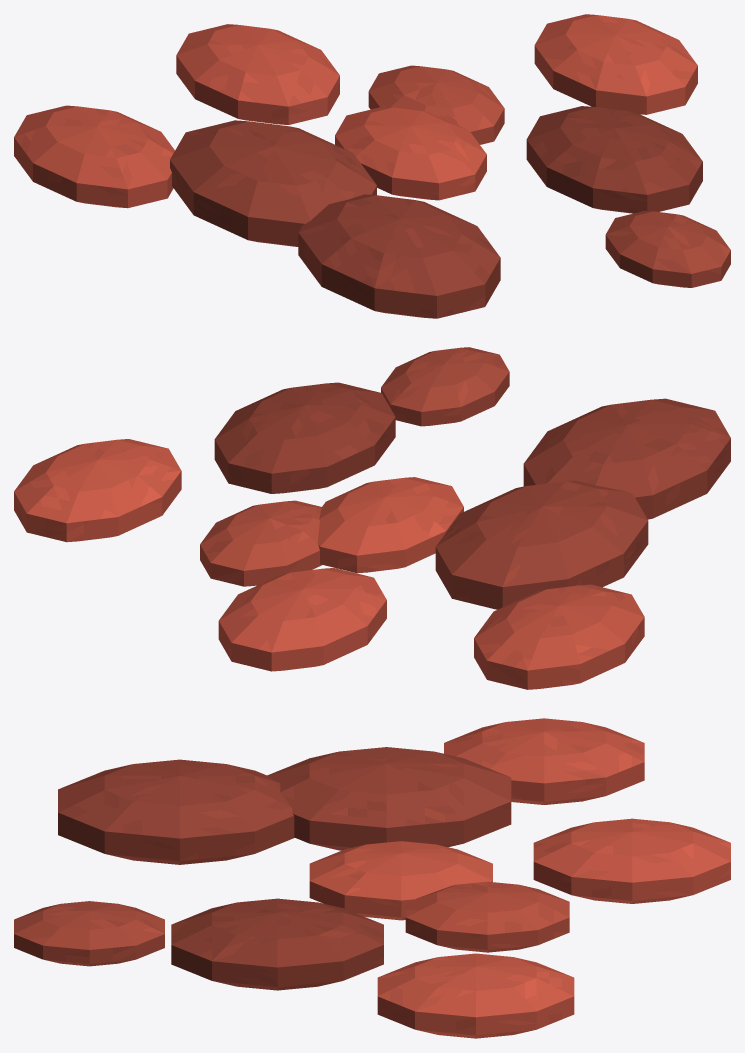
Rendered from seed_red_winter_wheat.glb.
3 views of the same model, one above another, from view 1: azimuth 30°, elevation 25°; view 2: azimuth 150°, elevation 25°; view 3: azimuth 270°, elevation 25° (orthographic). The views are drawn at different scales.
Parts seen in each view (by area): view 1: block_grain 5, block_grain 2, block_grain 3, block_grain 7, block_grain 4, block_grain 6, block_grain 0, block_grain 8, block_grain 1; view 2: block_grain 2, block_grain 5, block_grain 3, block_grain 7, block_grain 4, block_grain 6, block_grain 0, block_grain 1, block_grain 8; view 3: block_grain 5, block_grain 2, block_grain 3, block_grain 4, block_grain 6, block_grain 7, block_grain 0, block_grain 1, block_grain 8.
Part boxes in pixels (x1,y1,x2,y2): block_grain 5: [298, 194, 500, 318]; block_grain 2: [170, 120, 376, 246]; block_grain 3: [526, 106, 702, 213]; block_grain 7: [14, 105, 174, 208]; block_grain 4: [176, 24, 339, 124]; block_grain 6: [534, 14, 697, 114]; block_grain 0: [335, 106, 486, 200]; block_grain 8: [605, 210, 730, 287]; block_grain 1: [368, 65, 504, 144]; block_grain 2: [435, 480, 648, 609]; block_grain 5: [523, 398, 730, 519]; block_grain 3: [214, 382, 395, 493]; block_grain 7: [474, 584, 644, 689]; block_grain 4: [218, 568, 386, 671]; block_grain 6: [14, 439, 181, 542]; block_grain 0: [317, 477, 463, 573]; block_grain 1: [200, 500, 321, 586]; block_grain 8: [381, 347, 509, 426]; block_grain 5: [58, 759, 294, 864]; block_grain 2: [267, 747, 511, 850]; block_grain 3: [171, 898, 383, 990]; block_grain 4: [533, 818, 730, 903]; block_grain 6: [377, 953, 574, 1038]; block_grain 7: [444, 718, 644, 804]; block_grain 0: [309, 841, 492, 920]; block_grain 1: [405, 881, 569, 952]; block_grain 8: [14, 901, 164, 966].
Bounding box in the file's own units: 0.1073 × 0.0127 × 0.1102.
Materials: 1 (1 with a texture image).
